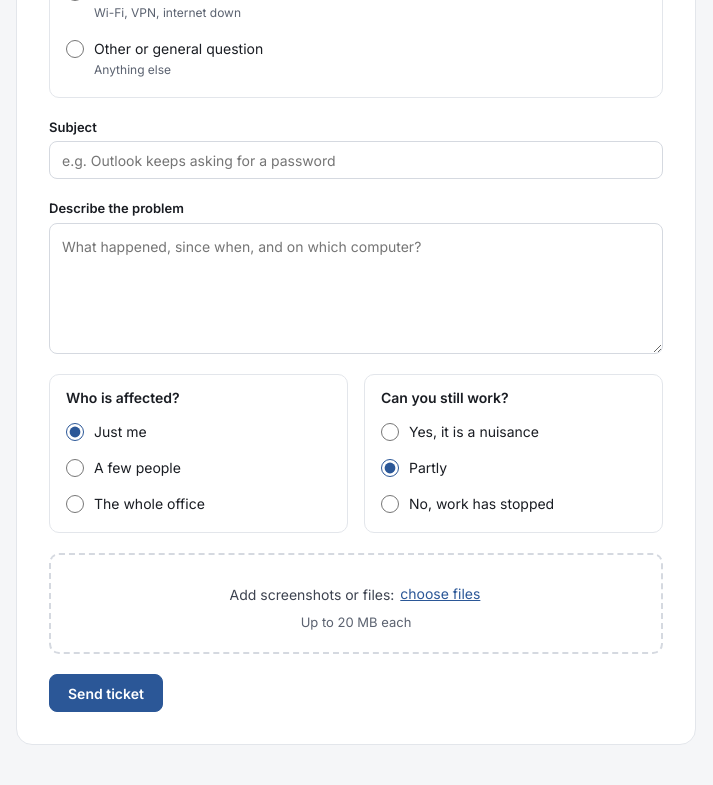
Test case: portal New ticket (WP-06) › shows field errors and sends nothing when the form is empty
(page scrolled)
Expected: the radio button labelled "Other or general question" is shown, [66,40,84,58]
Click the button "Send ticket": click(106, 693) [49,674,163,712]
(page scrolled)
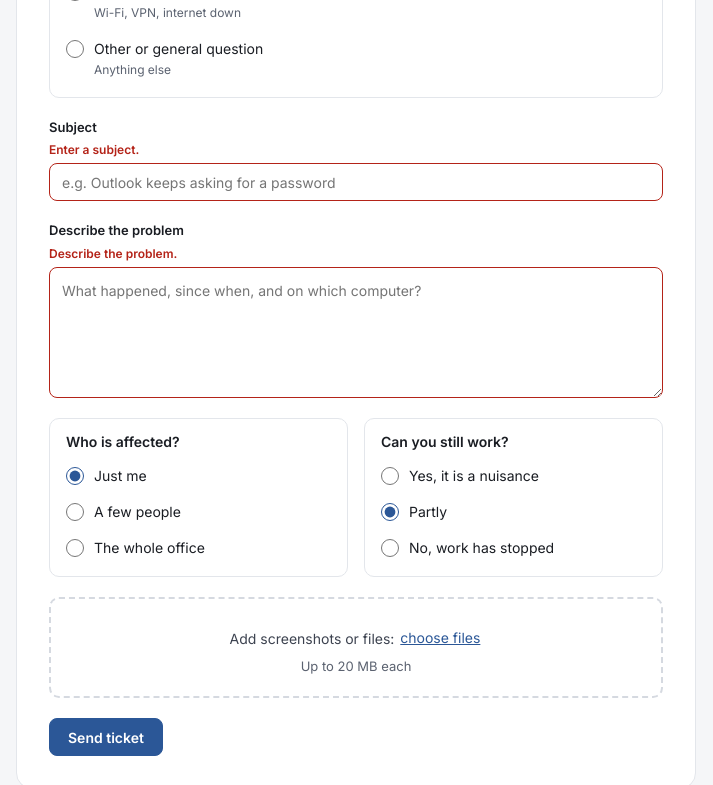
Expected: the text "Enter a subject." is shown, [49,142,139,157]
Expected: the text "Describe the problem." is shown, [49,246,177,260]
